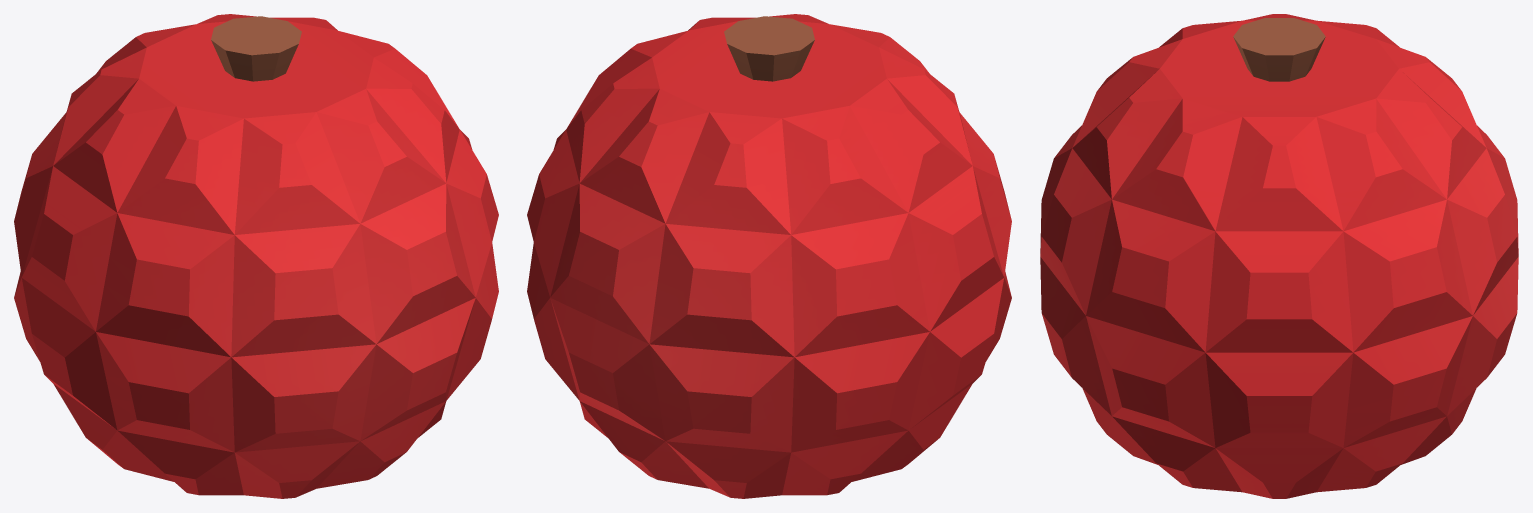
Rendered from Lychee.fbx.
3 views of the same model, side by side, from view 1: azimuth 30°, elevation 25°; view 2: azimuth 150°, elevation 25°; view 3: azimuth 270°, elevation 25° (orthographic).
Parts seen in each view (by area): view 1: Lychee; view 2: Lychee; view 3: Lychee.
Boxes of the visible parts, left/top/right/bottom form: Lychee: left=14, top=14, right=498, bottom=498; Lychee: left=527, top=14, right=1011, bottom=498; Lychee: left=1040, top=14, right=1518, bottom=498.
Size of the model in its own units: 7.96 by 8.08 by 7.95.
